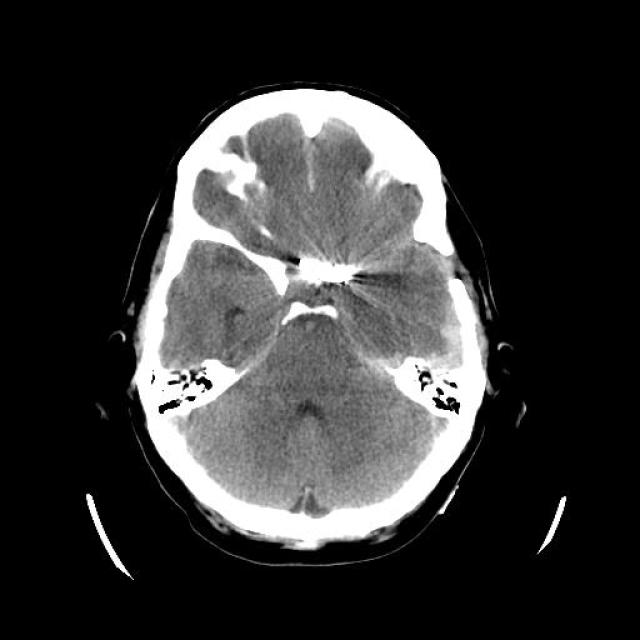Subdural: (378, 301, 492, 389)
